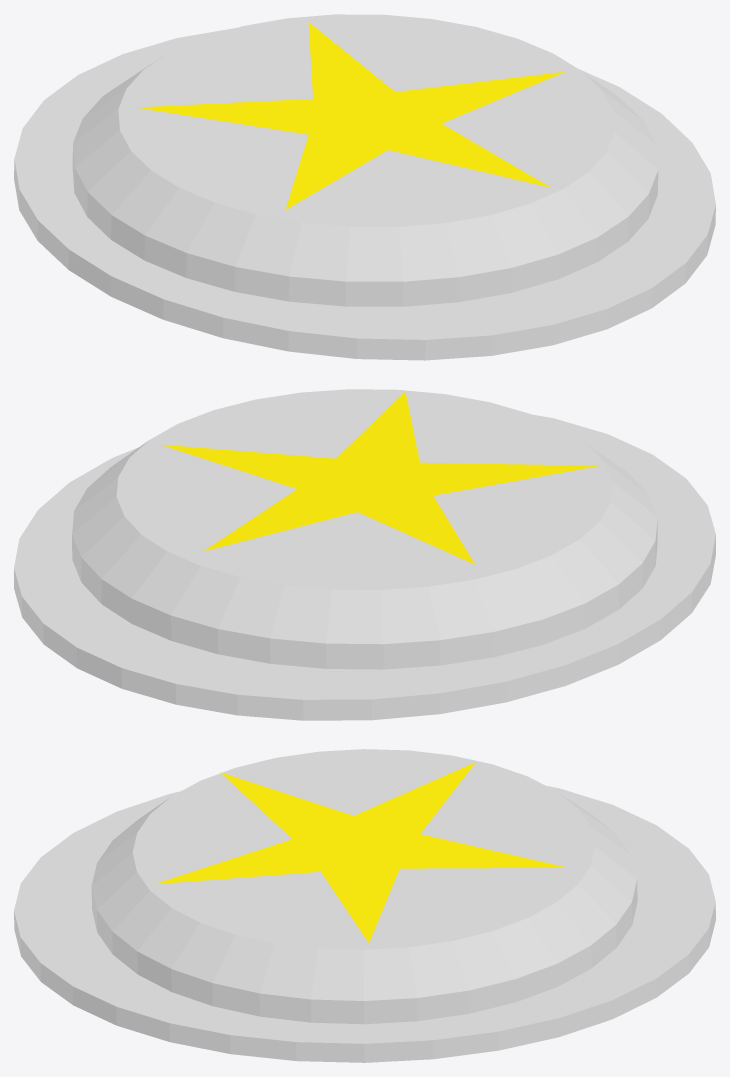
The picture shows the model from 3 angles, top to bottom: view 1: azimuth 30°, elevation 25°; view 2: azimuth 150°, elevation 25°; view 3: azimuth 270°, elevation 25°; orthographic projection. The views are drawn at different scales.
Parts seen in each view (by area): view 1: Socle, Start; view 2: Socle, Start; view 3: Socle, Start.
Part boxes in pixels (x1,y1,x2,y2): Socle: (14, 14, 715, 360); Start: (136, 22, 564, 209); Socle: (14, 389, 715, 720); Start: (161, 391, 600, 564); Socle: (14, 749, 715, 1062); Start: (154, 762, 566, 942).
Bounding box in the file's own units: 2.75 × 0.4385 × 3.04.
2 materials, 1 textured.
